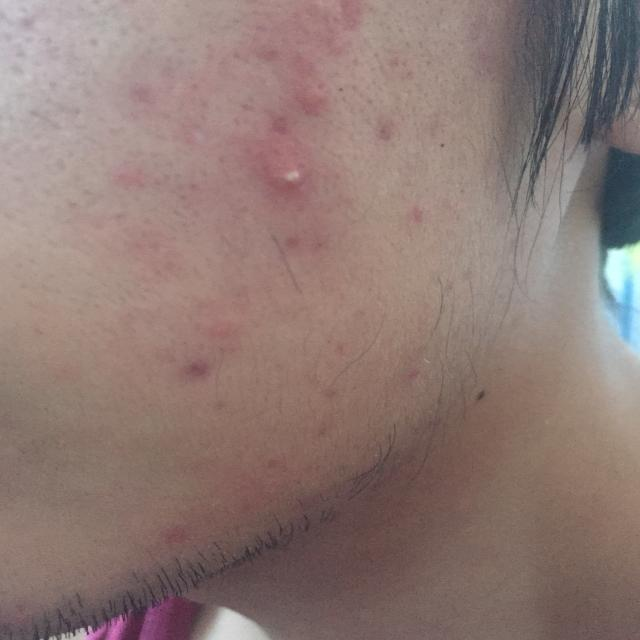blackheads: (254, 148, 327, 204)
